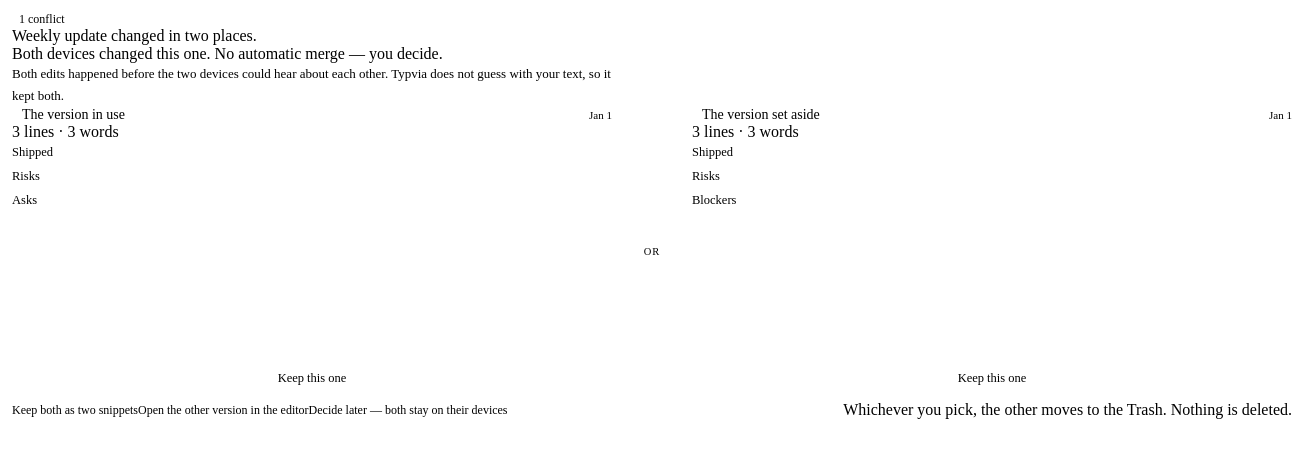
Scenario: Conflict resolution › says what is still fine when resolving fails
Click the button "Keep this one" below "Shipped Risks Asks" at [312, 378], box [12,361,612,395]
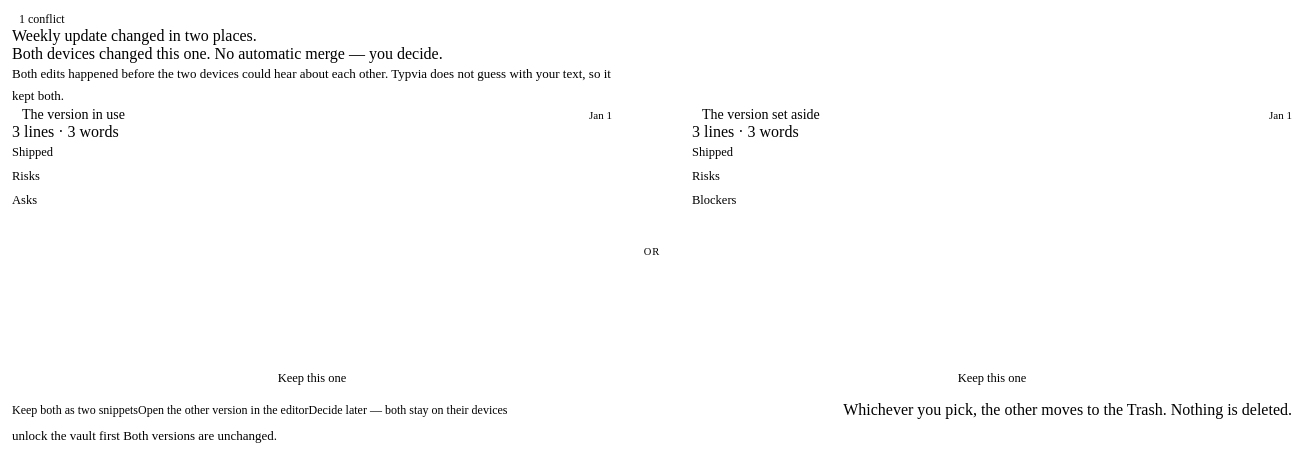
Now the text "unlock the vault first Both versions are unchanged." is shown, box [12,428,277,443]
